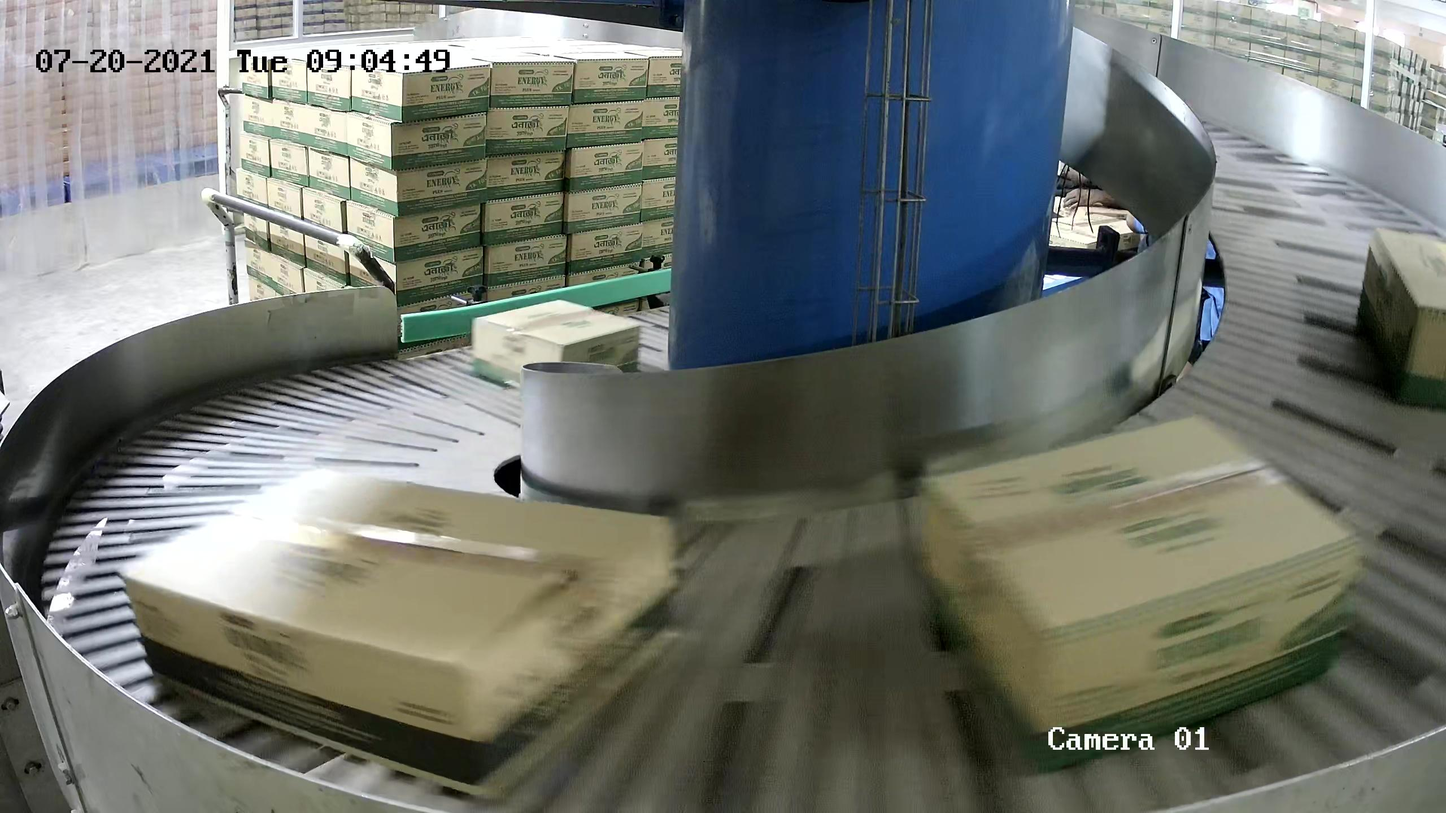Box: (122, 470, 685, 805), (914, 413, 1360, 774), (1357, 226, 1446, 428), (471, 299, 642, 399)
